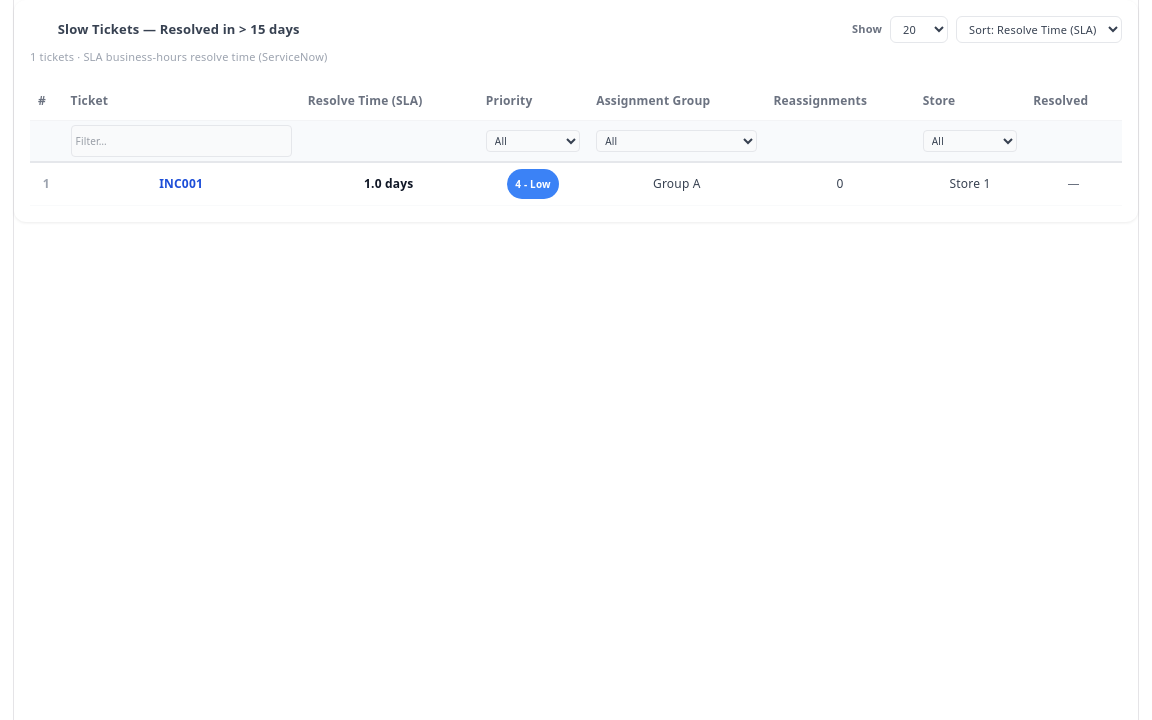
Test: Top20SlowTickets › clears all filters when Clear filters is clicked
The width and height of the screenshot is (1152, 720).
Type "NOMATCH" into the field with placeholder "Filter…".
click(181, 141); type("NOMATCH")  # box [71, 125, 292, 157]
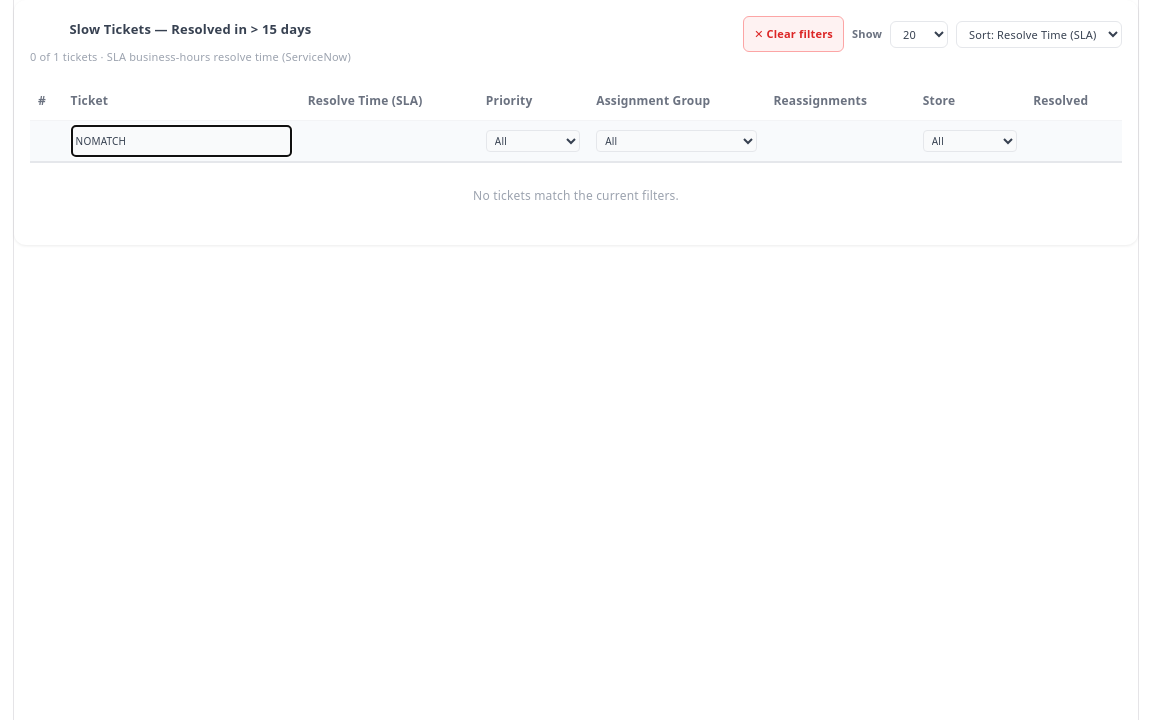
Click the button "✕ Clear filters".
click(794, 34)  # box [743, 16, 844, 52]
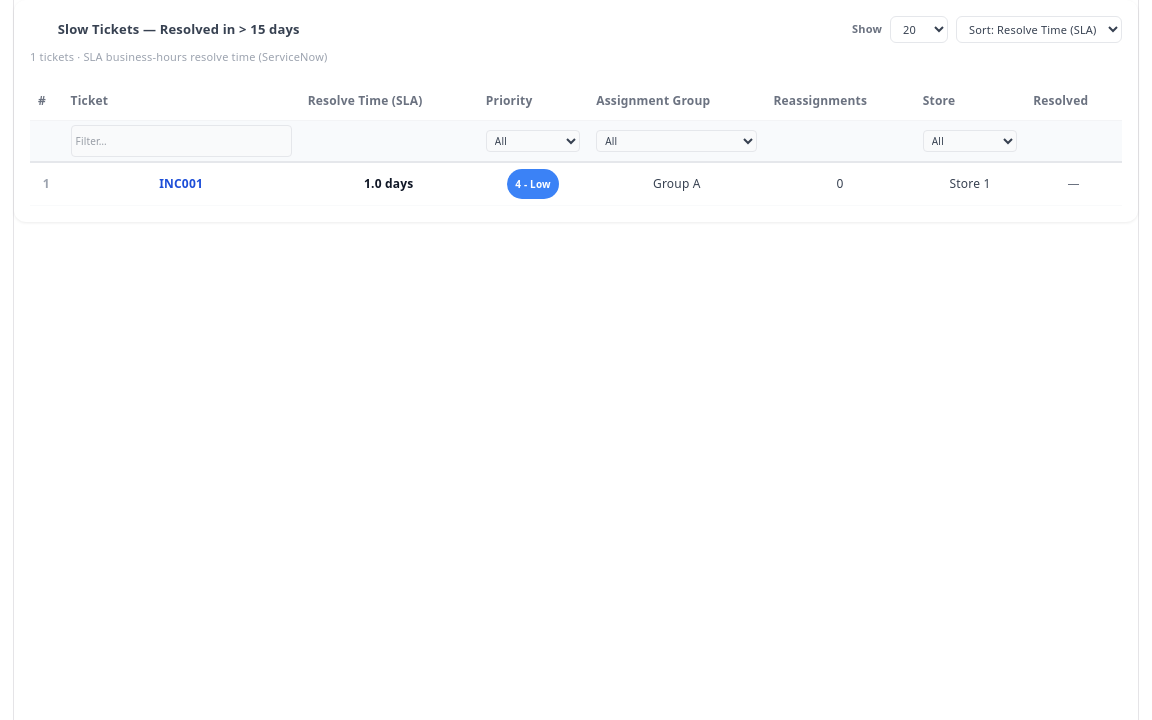
Check: the text "INC001" is shown, box [63, 162, 300, 206]
